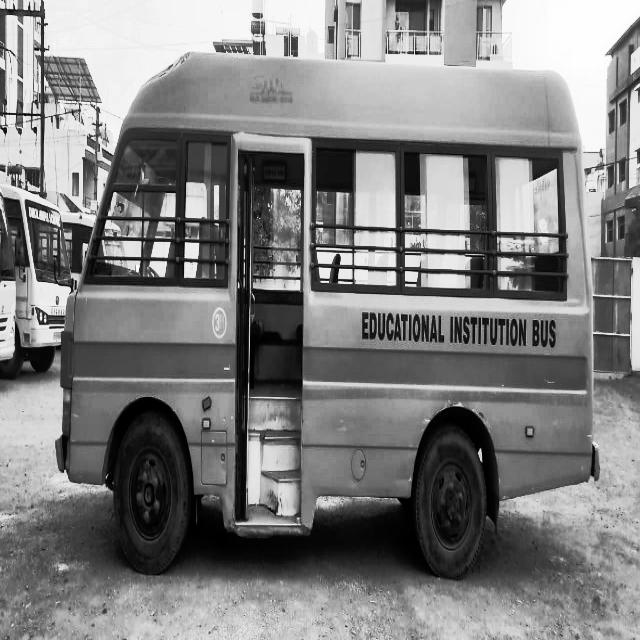Bus: (56, 31, 612, 610)
